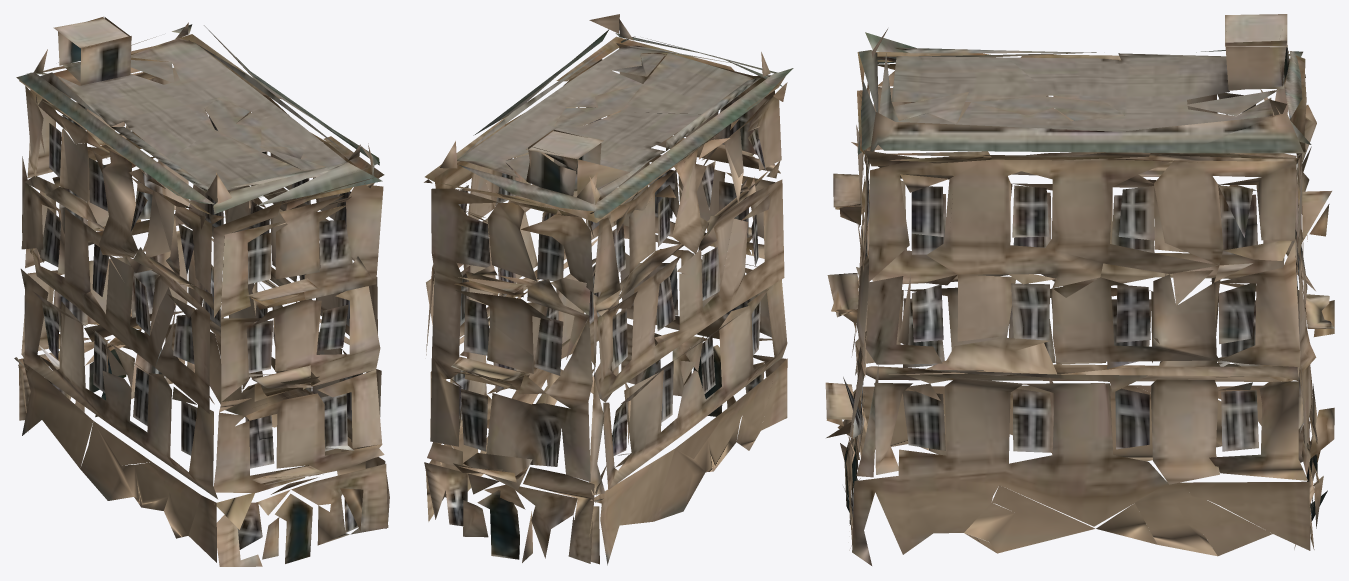
The model's file is stadt_altbau_lo.glb.
3 renders of one model, left to right at view 1: azimuth 30°, elevation 25°; view 2: azimuth 150°, elevation 25°; view 3: azimuth 270°, elevation 25°, orthographic. The views are drawn at different scales.
Visible parts, largest first — view 1: Prop; view 2: Prop; view 3: Prop.
Boxes of the visible parts, x1,y1,x2,y2 form: Prop: [14, 16, 389, 566]; Prop: [424, 14, 793, 565]; Prop: [825, 14, 1334, 565].
Size of the model in its own units: 0.5012 by 1 by 0.9725.
1 material, 1 textured.
